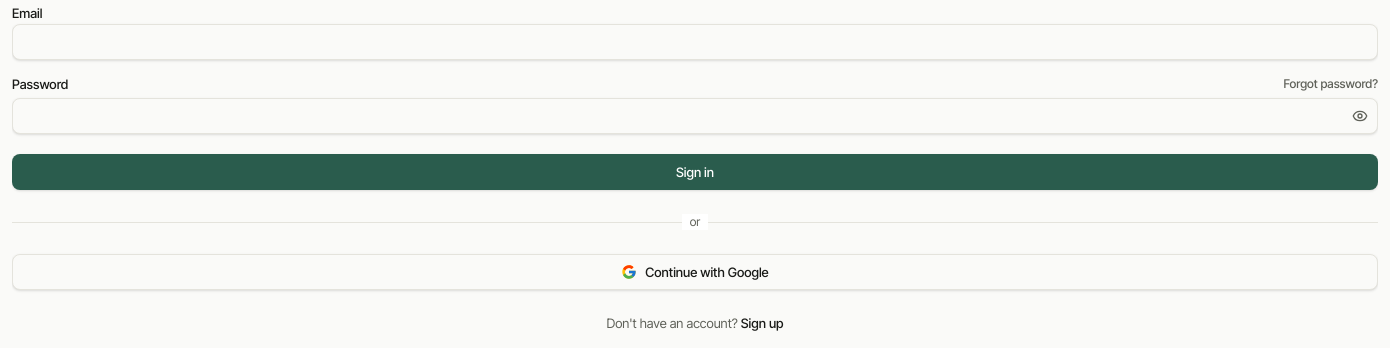
Test: SignInForm › disables button while submitting
In the field labelled "Email": (695, 42) x1=12 y1=24 x2=1378 y2=60, type "test@example.com"
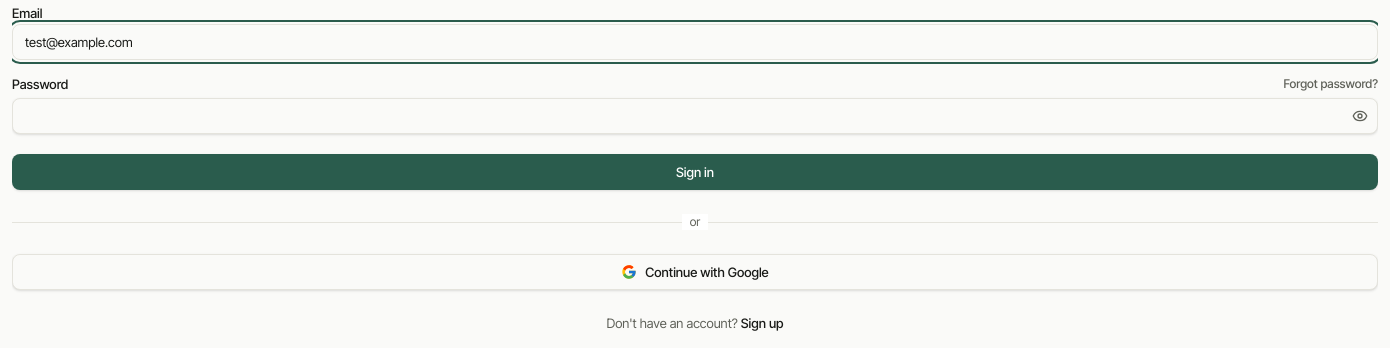
In the password field labelled "Password": (695, 116) x1=12 y1=98 x2=1378 y2=134, type "Password123"
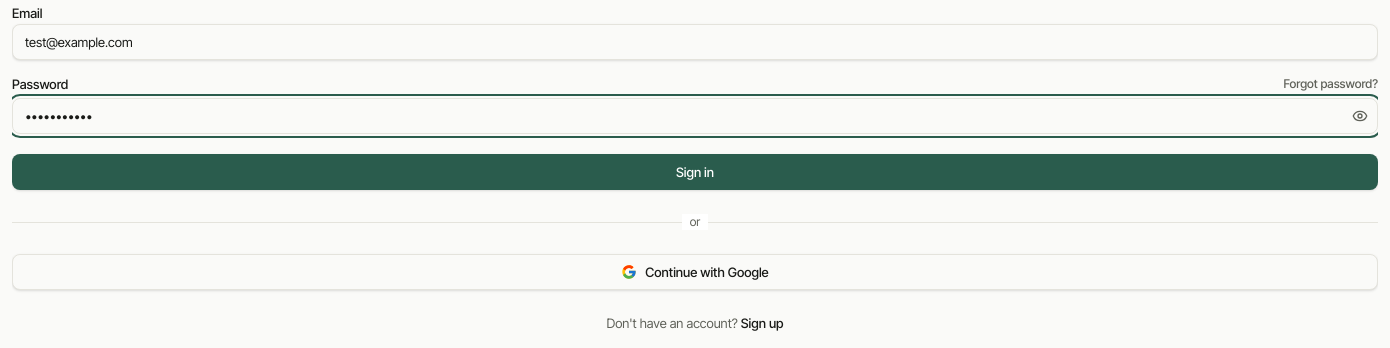
Click the button "Sign in": (695, 172) x1=12 y1=154 x2=1378 y2=190
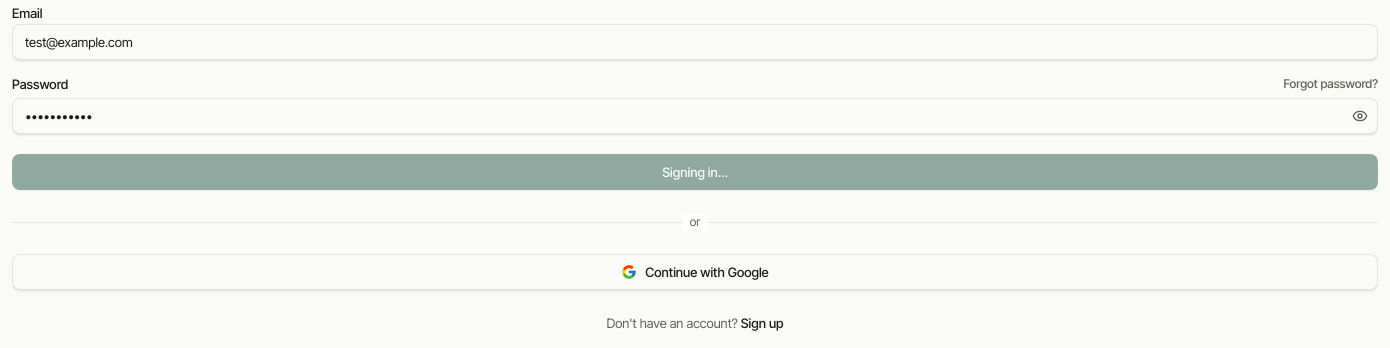
Expected: the button "Signing in…" is disabled, x1=12 y1=154 x2=1378 y2=190
